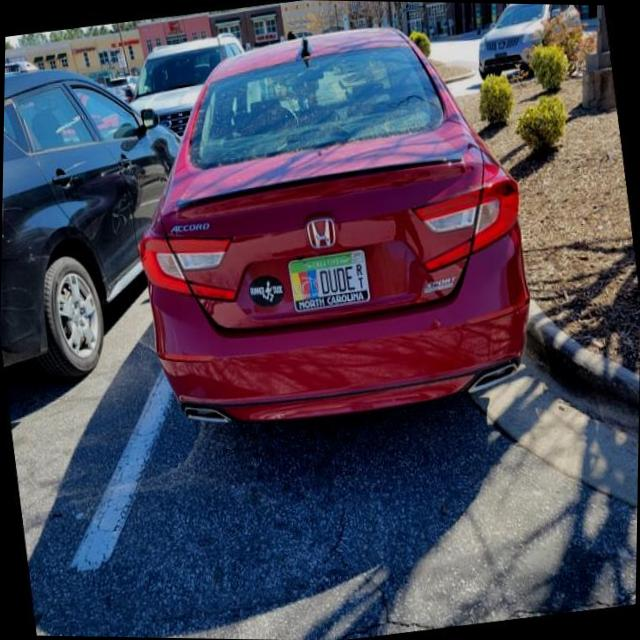LicensePlate: (287, 248, 370, 312)
